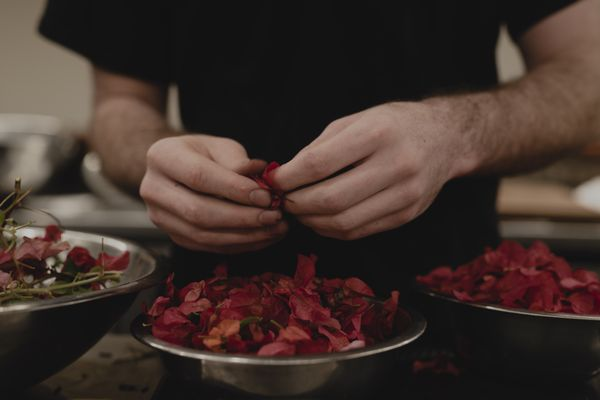curry: (1, 186, 591, 394)
